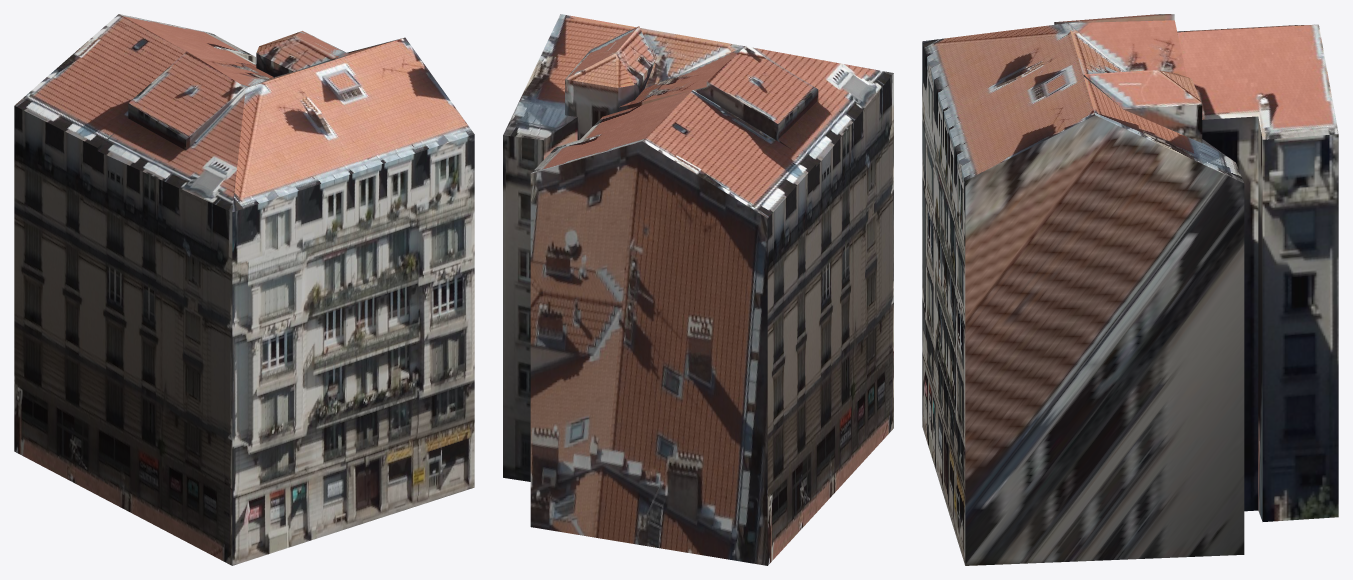
3 views of the same model, side by side, from view 1: azimuth 30°, elevation 25°; view 2: azimuth 150°, elevation 25°; view 3: azimuth 270°, elevation 25° (orthographic). The views are drawn at different scales.
Visible parts, largest first — view 1: Z_UP; view 2: Z_UP; view 3: Z_UP.
Part boxes in pixels (x1,y1,x2,y2): Z_UP: [14, 14, 474, 565]; Z_UP: [503, 14, 893, 565]; Z_UP: [922, 14, 1338, 565].
Bounding box in the file's own units: 22.36 × 28.6 × 24.
Materials: 2 (1 with a texture image).
